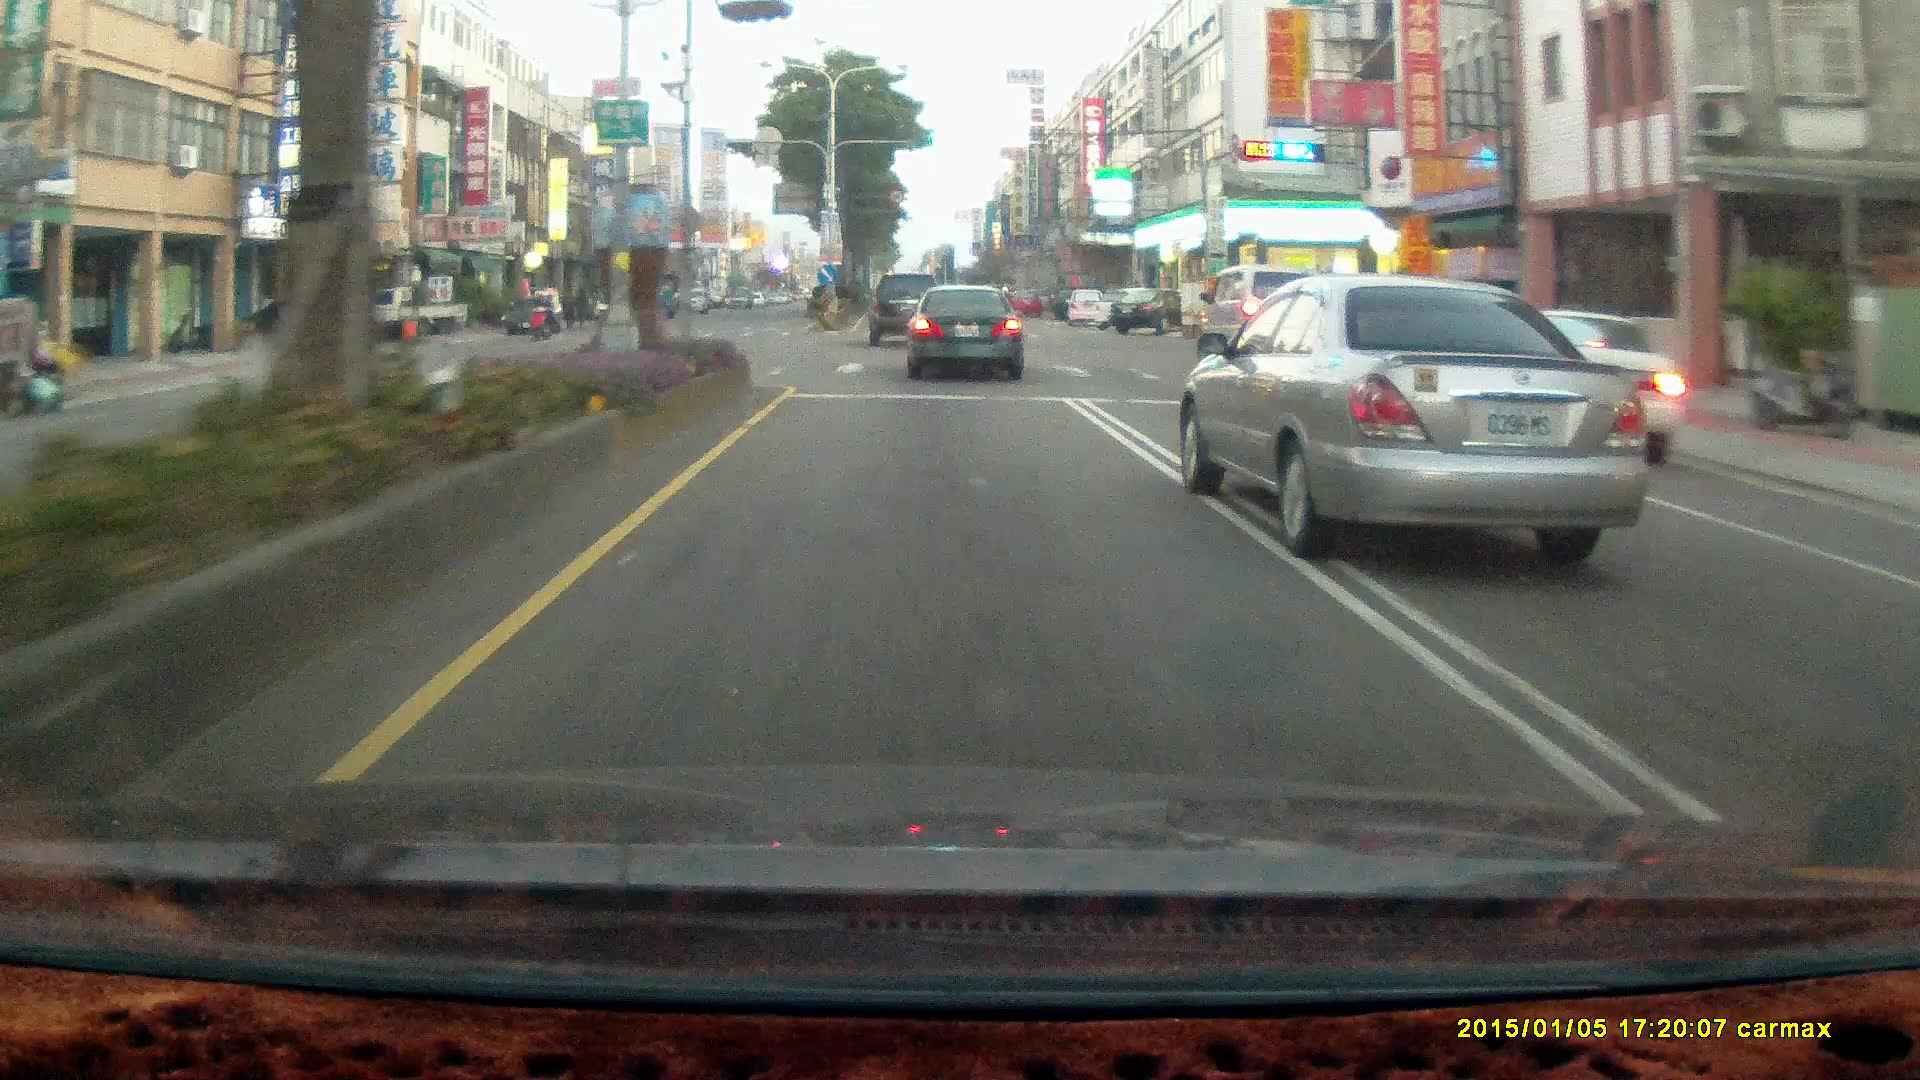rider: (528, 290, 556, 337)
vehicle: (1179, 273, 1661, 561), (1490, 309, 1687, 465), (1193, 263, 1327, 363), (1201, 267, 1335, 364), (905, 283, 1029, 382), (904, 282, 1022, 376), (241, 297, 366, 357), (363, 287, 473, 346), (867, 270, 946, 349), (352, 282, 467, 334), (869, 271, 945, 344), (1108, 285, 1194, 331), (1108, 285, 1168, 332), (503, 298, 562, 332), (1062, 285, 1110, 325), (599, 294, 636, 320)
